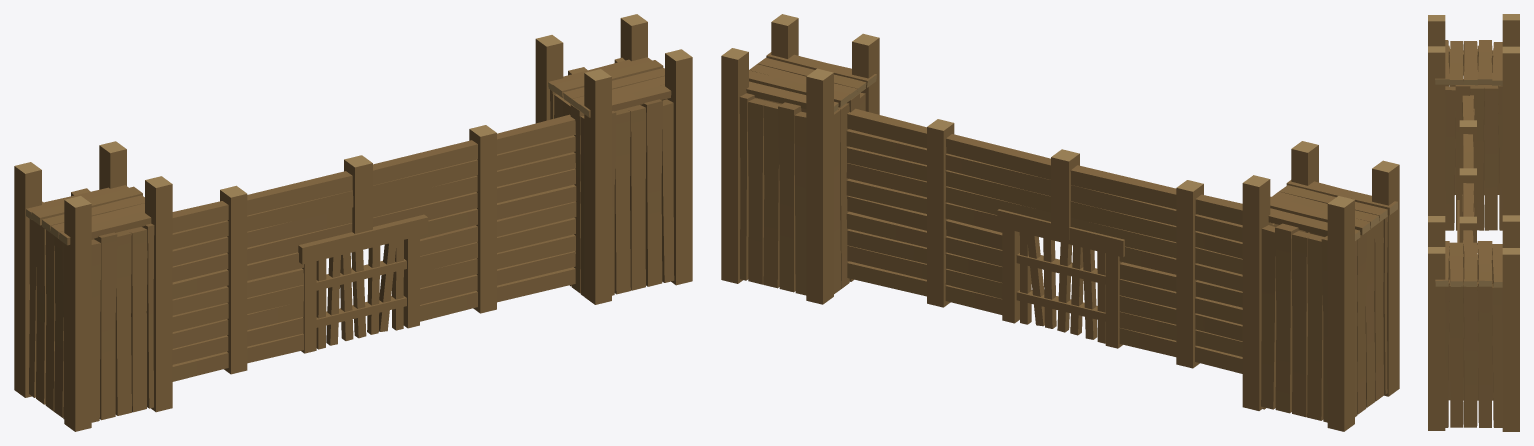
The model's file is Wooden Fortress Gate.glb.
The picture shows the model from 3 angles, left to right: view 1: azimuth 30°, elevation 25°; view 2: azimuth 150°, elevation 25°; view 3: azimuth 270°, elevation 25°; orthographic projection. The views are drawn at different scales.
Parts seen in each view (by area): view 1: Wooden Fortress Gate; view 2: Wooden Fortress Gate; view 3: Wooden Fortress Gate.
Boxes of the visible parts, x1=… form: Wooden Fortress Gate: x1=14, y1=14, x2=692, y2=431; Wooden Fortress Gate: x1=721, y1=14, x2=1399, y2=431; Wooden Fortress Gate: x1=1428, y1=14, x2=1519, y2=431.
Bounding box in the file's own units: 1.94 × 0.6725 × 0.3135.
